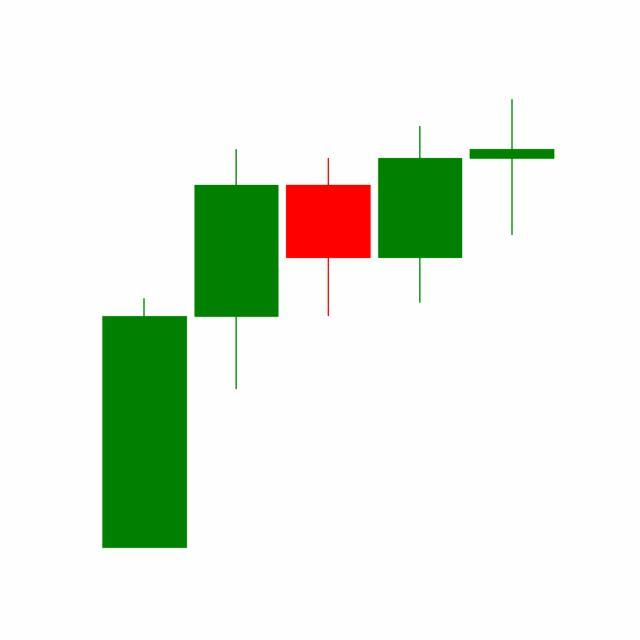Spinning Top: (466, 98, 559, 238)
